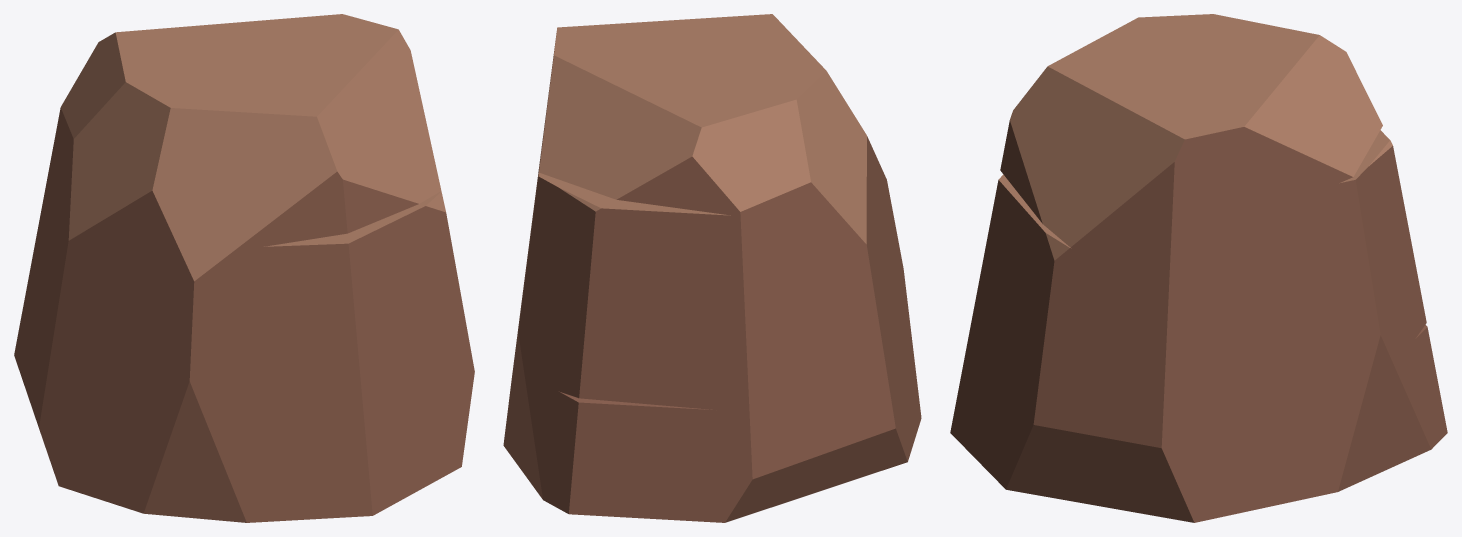
File: sandstone_04.glb
3 views of the same model, side by side, from view 1: azimuth 30°, elevation 25°; view 2: azimuth 150°, elevation 25°; view 3: azimuth 270°, elevation 25° (orthographic). The views are drawn at different scales.
Visible parts, largest first — view 1: GlutSandstone04; view 2: GlutSandstone04; view 3: GlutSandstone04.
Boxes of the visible parts, left/top/right/bottom form: GlutSandstone04: left=14, top=14, right=474, bottom=522; GlutSandstone04: left=503, top=14, right=921, bottom=522; GlutSandstone04: left=950, top=14, right=1447, bottom=522.
Bounding box in the file's own units: 0.755 × 0.66 × 0.8193.
